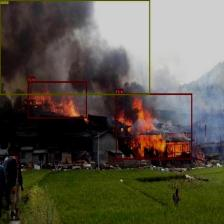fire: (115, 94, 192, 160), (27, 82, 86, 119)
smoke: (0, 0, 150, 95)
